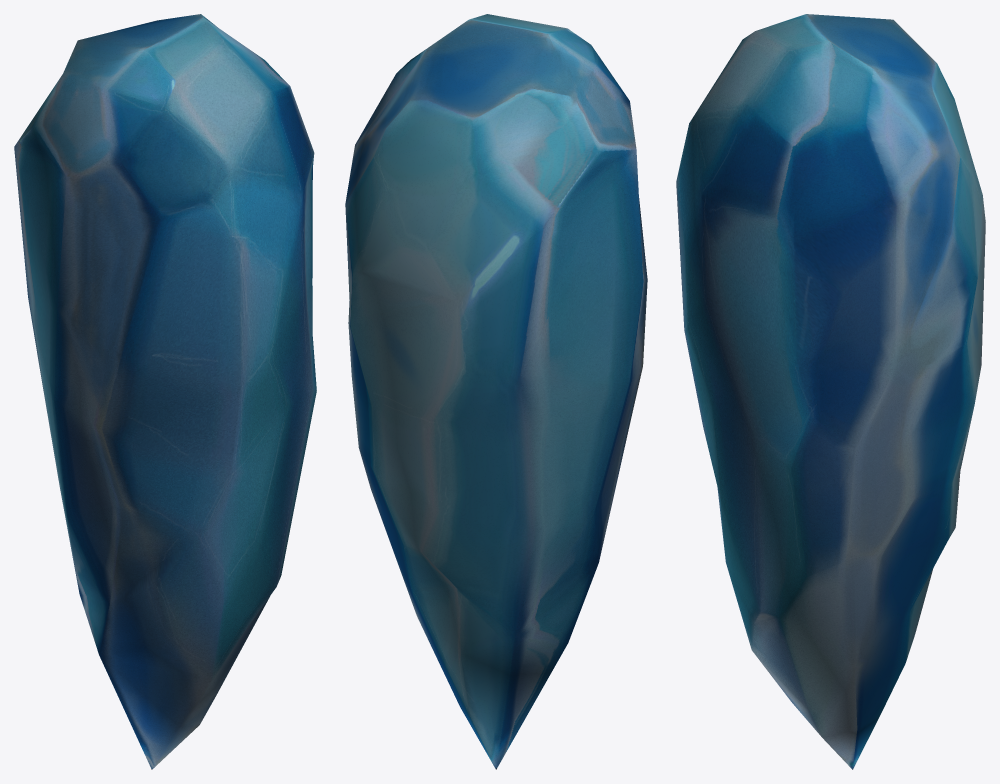
The model's file is Lapis.fbx.
The picture shows the model from 3 angles, left to right: view 1: azimuth 30°, elevation 25°; view 2: azimuth 150°, elevation 25°; view 3: azimuth 270°, elevation 25°; orthographic projection. The views are drawn at different scales.
Visible parts, largest first — view 1: LapisModel; view 2: LapisModel; view 3: LapisModel.
Part boxes in pixels (x1,y1,x2,y2): LapisModel: (14, 14, 316, 769); LapisModel: (345, 14, 647, 769); LapisModel: (676, 14, 985, 769).
Size of the model in its own units: 0.6786 by 1.86 by 0.6988.
